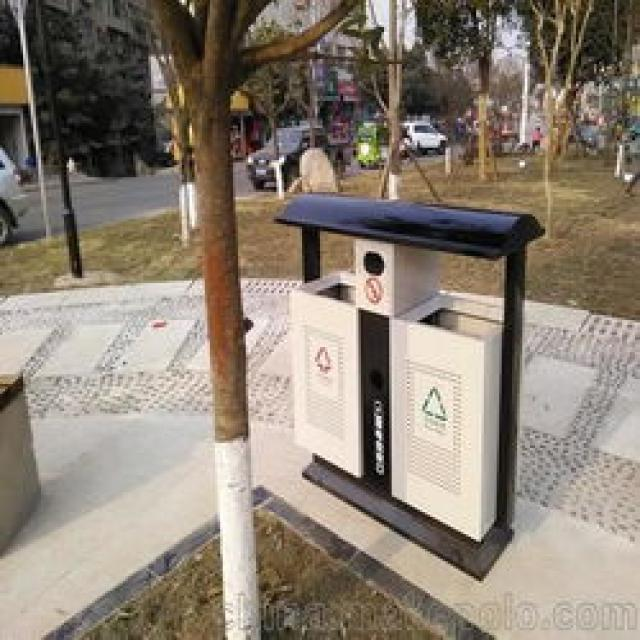garbage_bin: (271, 192, 543, 578)
